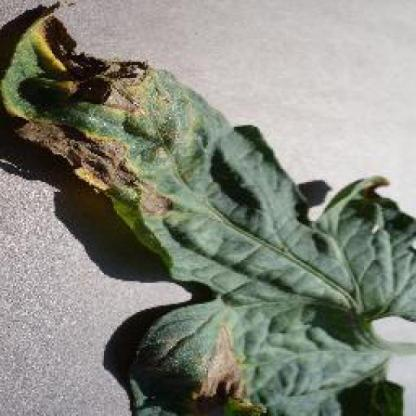Tomato_Blight: (2, 4, 406, 416)
